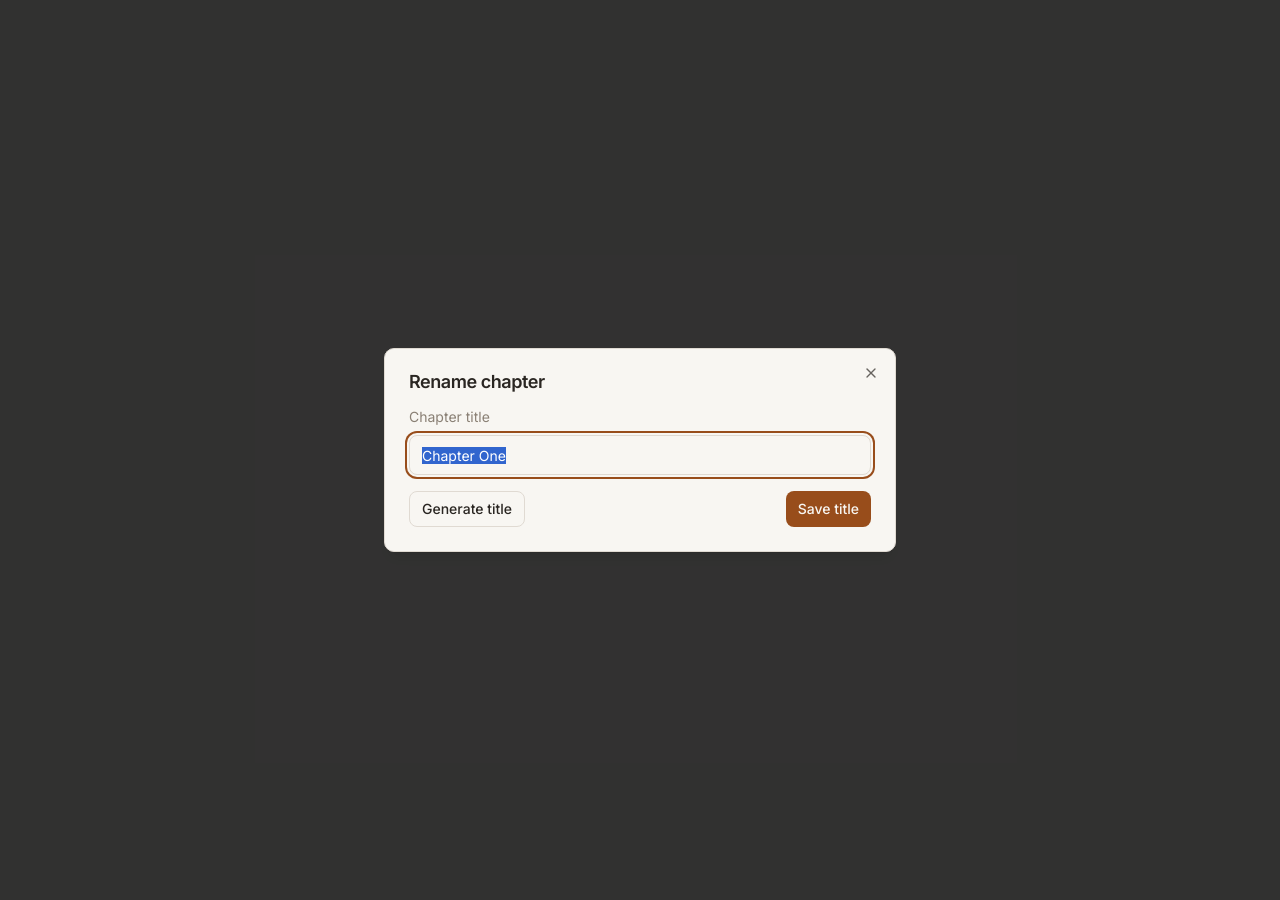
Test case: ChapterRenameDialog › generates a title suggestion
Click the button "Generate title": (467, 509) [409, 491, 525, 527]
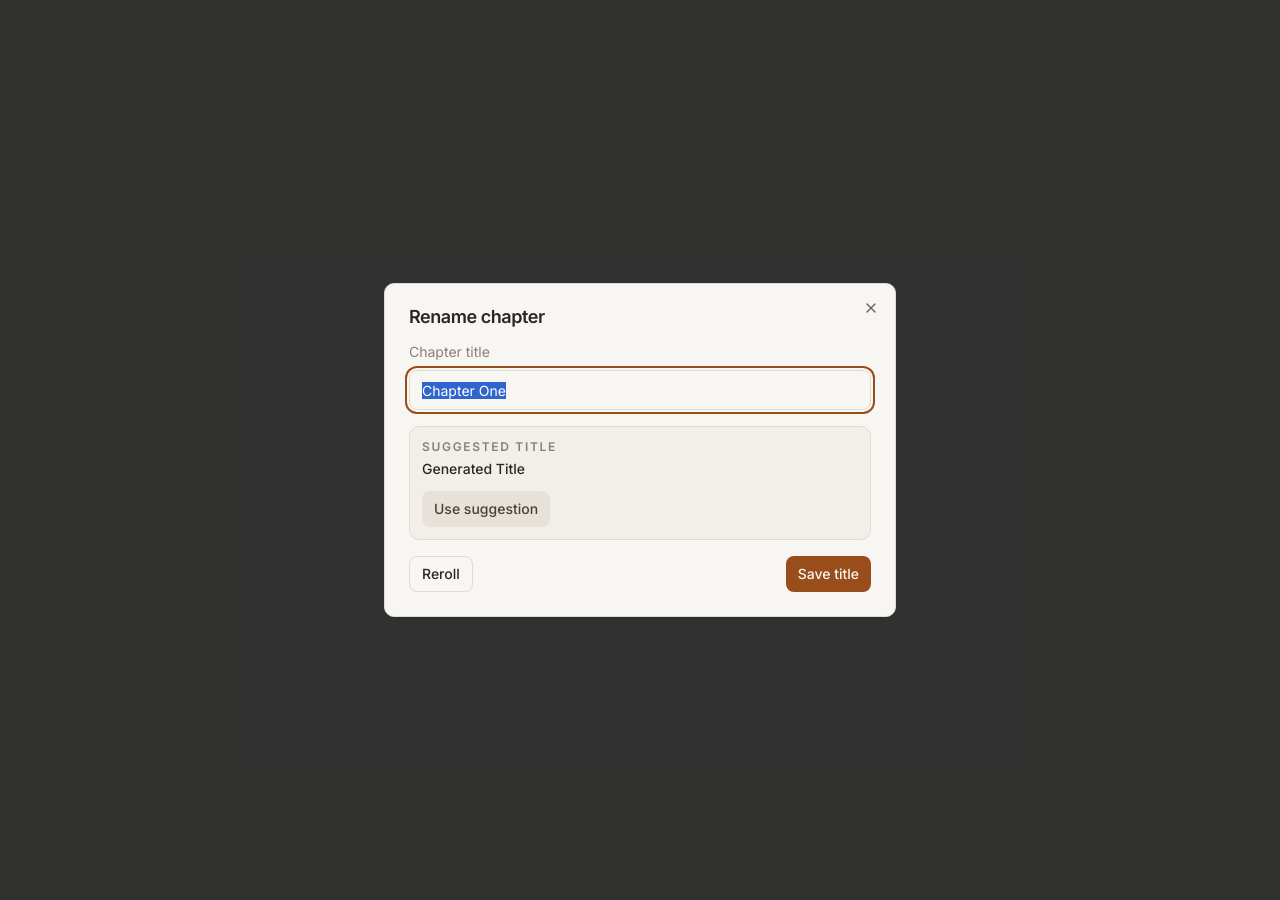
Expected: the text "Suggested title" is shown, [422, 439, 557, 454]
Expected: the text "Generated Title" is shown, [422, 460, 525, 477]
